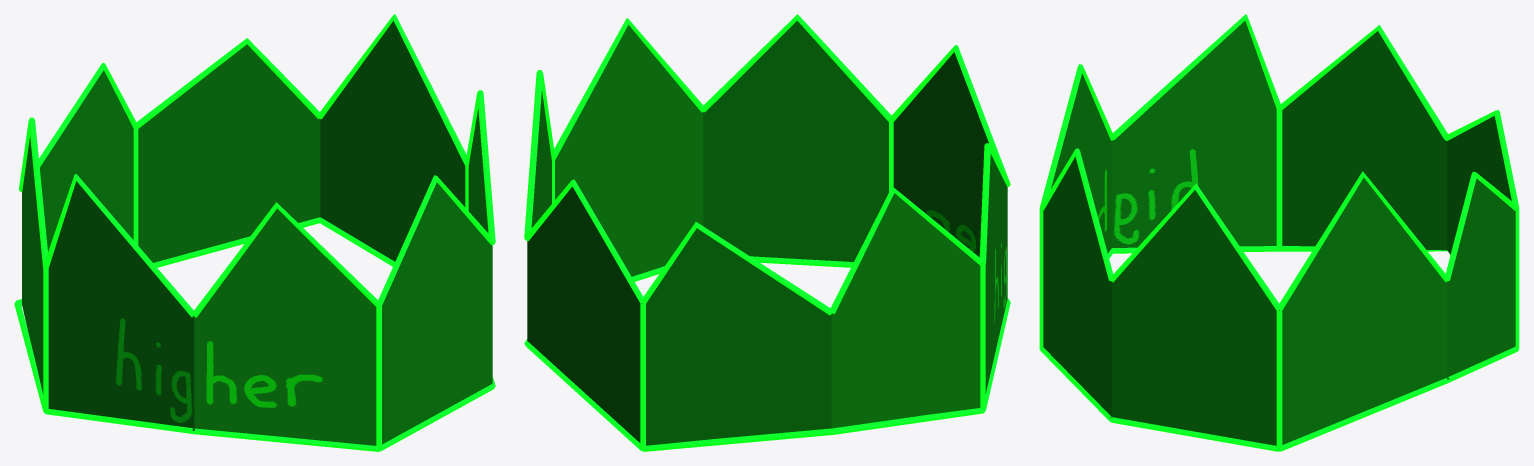
File: higher_crown.glb
The picture shows the model from 3 angles, left to right: view 1: azimuth 30°, elevation 25°; view 2: azimuth 150°, elevation 25°; view 3: azimuth 270°, elevation 25°; orthographic projection. The views are drawn at different scales.
Visible parts, largest first — view 1: crown, highlight; view 2: crown, highlight; view 3: crown, highlight.
Part boxes in pixels (x1,y1,x2,y2): crown: [22, 21, 492, 445]; highlight: [14, 14, 495, 451]; crown: [527, 21, 1007, 445]; highlight: [524, 14, 1010, 451]; crown: [1043, 21, 1515, 445]; highlight: [1039, 14, 1519, 451].
Size of the model in its own units: 0.152 by 0.0925 by 0.1519.
2 materials, 1 textured.
